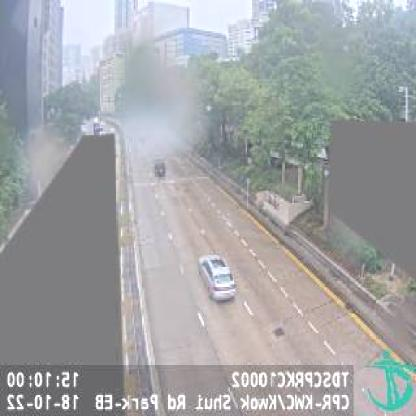Car: (197, 252, 237, 303), (154, 154, 166, 178)
